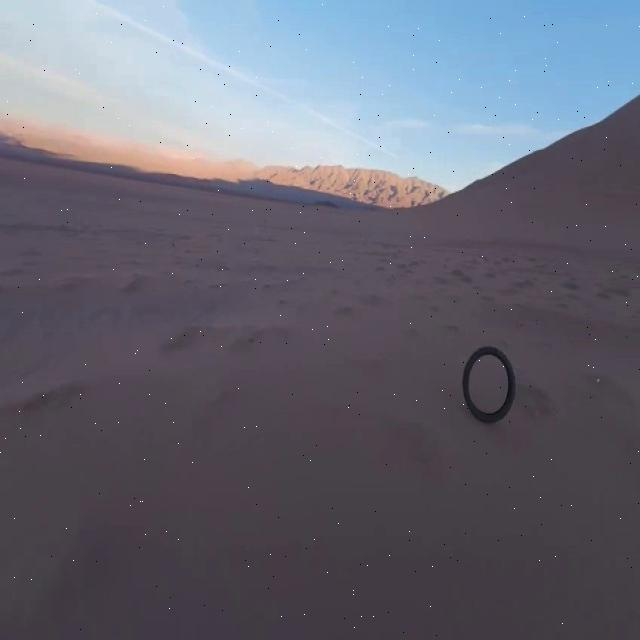Tire: (463, 347, 515, 422)
